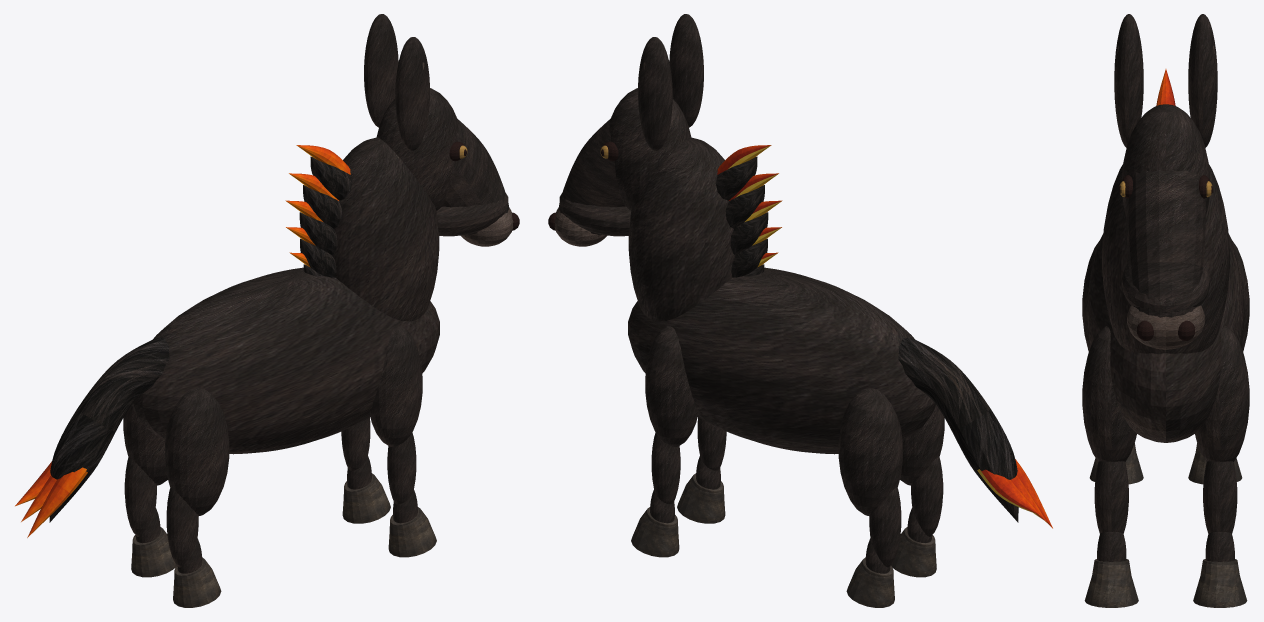
The model's file is mulanima.obj.
3 renders of one model, left to right at view 1: azimuth 30°, elevation 25°; view 2: azimuth 150°, elevation 25°; view 3: azimuth 270°, elevation 25°, orthographic. The views are drawn at different scales.
Parts seen in each view (by area): view 1: trunk_coat, neck_coat, tail_hair_mane, hind_left_upper_coat, fore_left_upper_coat, cranium_coat, left_ear_coat, long_muzzle_coat, right_ear_coat, hind_right_upper_coat, hind_right_lower_coat, hind_left_lower_coat (+13 smaller); view 2: trunk_coat, neck_coat, tail_hair_mane, hind_right_upper_coat, fore_right_upper_coat, cranium_coat, right_ear_coat, long_muzzle_coat, left_ear_coat, hind_left_upper_coat, hind_left_lower_coat, hind_right_lower_coat (+13 smaller); view 3: trunk_coat, long_muzzle_coat, neck_coat, cranium_coat, fore_left_upper_coat, fore_right_upper_coat, left_ear_coat, right_ear_coat, fore_left_lower_coat, fore_right_lower_coat, fore_left_hoof_hoof, fore_right_hoof_hoof (+11 smaller).
Part boxes in pixels (left/top/right/bottom): trunk_coat: left=132, top=267, right=439, bottom=454; neck_coat: left=332, top=137, right=439, bottom=321; tail_hair_mane: left=49, top=337, right=169, bottom=522; hind_left_upper_coat: left=165, top=388, right=229, bottom=515; fore_left_upper_coat: left=370, top=326, right=422, bottom=446; cranium_coat: left=376, top=88, right=458, bottom=210; left_ear_coat: left=395, top=37, right=429, bottom=150; long_muzzle_coat: left=442, top=119, right=509, bottom=235; right_ear_coat: left=364, top=14, right=398, bottom=127; hind_right_upper_coat: left=123, top=405, right=167, bottom=485; hind_right_lower_coat: left=124, top=456, right=156, bottom=536; hind_left_lower_coat: left=166, top=487, right=198, bottom=567; trunk_coat: left=628, top=267, right=935, bottom=454; neck_coat: left=628, top=137, right=735, bottom=321; tail_hair_mane: left=898, top=337, right=1018, bottom=522; hind_right_upper_coat: left=838, top=388, right=902, bottom=515; fore_right_upper_coat: left=645, top=326, right=697, bottom=446; cranium_coat: left=609, top=88, right=691, bottom=210; right_ear_coat: left=638, top=37, right=672, bottom=150; long_muzzle_coat: left=558, top=119, right=625, bottom=235; left_ear_coat: left=669, top=14, right=703, bottom=127; hind_left_upper_coat: left=900, top=405, right=944, bottom=485; hind_left_lower_coat: left=911, top=456, right=943, bottom=536; hind_right_lower_coat: left=869, top=487, right=901, bottom=567; trunk_coat: left=1087, top=234, right=1244, bottom=442; long_muzzle_coat: left=1126, top=170, right=1205, bottom=317; neck_coat: left=1102, top=164, right=1229, bottom=353; cranium_coat: left=1122, top=104, right=1209, bottom=216; fore_left_upper_coat: left=1082, top=326, right=1136, bottom=461; fore_right_upper_coat: left=1195, top=326, right=1249, bottom=461; left_ear_coat: left=1114, top=14, right=1143, bottom=147; right_ear_coat: left=1188, top=14, right=1217, bottom=147; fore_left_lower_coat: left=1094, top=461, right=1128, bottom=533; fore_right_lower_coat: left=1203, top=461, right=1237, bottom=533; fore_left_hoof_hoof: left=1084, top=559, right=1138, bottom=607; fore_right_hoof_hoof: left=1193, top=559, right=1247, bottom=607.
Size of the model in its own units: 101 by 100 by 25.44.
Materials: 3 (3 with a texture image).
